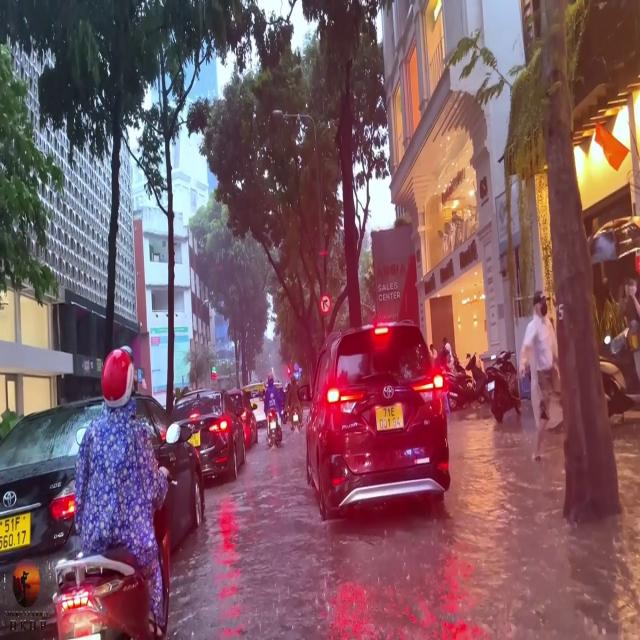bien_vang: (0, 512, 30, 551), (371, 402, 404, 432)
